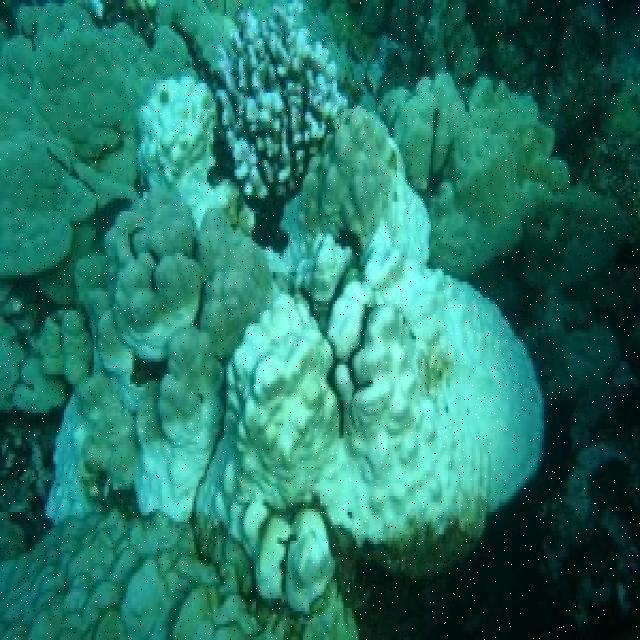Bleached: (318, 267, 544, 577), (212, 288, 347, 619), (281, 99, 440, 297), (218, 14, 347, 196), (125, 80, 226, 190), (131, 413, 210, 531)
Healthy: (3, 1, 127, 382), (390, 52, 557, 262), (101, 177, 205, 361)
